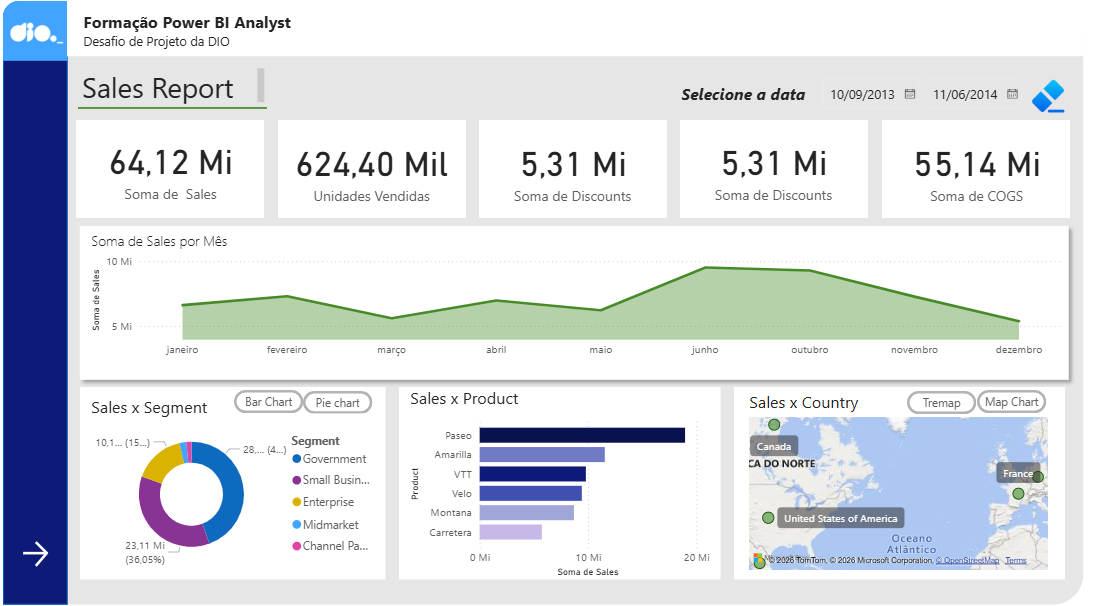

This screenshot's page, from the dashboard's own definition file:
{"tool":"powerbi","page":{"name":"Página 1","canvas":[1280,720],"ordinal":0},"visuals":[{"type":"shape","box":[14.7,16,1246.7,696.6],"z":0},{"type":"shape","box":[99.8,153,217.2,113.1],"z":0,"group":"g1"},{"type":"map","title":"Sales x Country","fields":{"Category":["financials.Country"],"Size":["Sum(financials. Sales)"]},"box":[871.3,466.5,355,212.4],"z":0,"group":"g4"},{"type":"clusteredBarChart","title":"Sales x Segment","fields":{"Y":["Sum(financials. Sales)"],"Category":["financials.Segment"]},"box":[110.4,472.3,340.6,202.2],"z":0,"group":"g3"},{"type":"shape","box":[14.7,16,74.6,696.6],"z":1000},{"type":"slicer","fields":{"Values":["financials.Date"]},"box":[947.6,95.7,250.1,57.2],"z":1000,"group":"g2"},{"type":"shape","box":[332.4,153,217.2,113.1],"z":1000,"group":"g1"},{"type":"donutChart","title":"Sales x Segment ","fields":{"Category":["financials.Segment"],"Y":["Sum(financials. Sales)"]},"box":[111.3,471.9,340.9,201.7],"z":1000,"group":"g3"},{"type":"actionButton","title":"Botão- Bar chart","box":[281.7,464.9,80,26.7],"z":1500,"group":"g3"},{"type":"actionButton","title":"Botão- Tremap","box":[1058.6,466.1,80,26.7],"z":1500,"group":"g4"},{"type":"shape","box":[14.7,16,74.6,69.3],"z":2000},{"type":"shape","box":[565,153,217.2,113.1],"z":2000,"group":"g1"},{"type":"actionButton","title":"Botão- Map","box":[1138.6,464.9,80,26.7],"z":2000,"group":"g4"},{"type":"actionButton","title":"Botão- Pie Chart","box":[361.2,466.2,80,26.2],"z":2000,"group":"g3"},{"type":"image","box":[18.6,16,70.6,73.3],"z":3000},{"type":"textbox","box":[783.9,105,171.6,38.6],"z":3000,"group":"g2"},{"type":"shape","box":[1030.2,153,217.2,113.1],"z":3000,"group":"g1"},{"type":"image","title":"Clean","box":[1185.5,96.8,72.7,57.7],"z":3500,"group":"g2"},{"type":"shape","box":[89.2,15.9,1173.3,63.7],"z":4000},{"type":"actionButton","box":[1200.5,110.3,42.7,30],"z":4000,"group":"g2"},{"type":"shape","box":[796.3,153,217.2,113.1],"z":4000,"group":"g1"},{"type":"textbox","box":[102.8,21.8,294.3,56.5],"z":5000},{"type":"card","fields":{"Values":["Sum(financials.Units Sold)"]},"box":[339.3,158.3,202.2,102.5],"z":5000,"group":"g1"},{"type":"group","id":"g1","title":"Cartões","box":[99.8,153,1147.6,113.1],"z":6000},{"type":"card","fields":{"Values":["Sum(financials.COGS)"]},"box":[1037.8,158.3,202.2,102.5],"z":6000,"group":"g1"},{"type":"shape","box":[101.9,119.4,218.1,41.4],"z":7000},{"type":"card","fields":{"Values":["Sum(financials. Sales)"]},"box":[107.8,157,202.2,102.5],"z":7000,"group":"g1"},{"type":"textbox","box":[101.9,89.2,219.7,50.9],"z":8000},{"type":"card","fields":{"Values":["Sum(financials.Discounts)"]},"box":[572.1,158.3,202.2,102.5],"z":8000,"group":"g1"},{"type":"card","fields":{"Values":["Sum(financials.Discounts)"]},"box":[803.2,158.5,201.8,102.9],"z":9000},{"type":"shape","box":[94.5,266.1,1158.9,195.6],"z":10000},{"type":"shape","box":[103.8,461.7,352.6,222.2],"z":11000},{"type":"shape","box":[472.3,461.7,371.2,222.2],"z":12000},{"type":"shape","box":[858.2,461.7,381.9,222.2],"z":13000},{"type":"areaChart","fields":{"Category":["financials.Date.Variation.Hierarquia de datas.Mês"],"Y":["Sum(financials. Sales)"]},"box":[111.4,281.8,1128.8,154.4],"z":14000},{"type":"clusteredBarChart","title":"Sales x Product","fields":{"Y":["Sum(financials. Sales)"],"Category":["financials.Product"]},"box":[480.3,461.7,355.3,223.5],"z":15000},{"type":"group","id":"g2","title":"Filtro por data","box":[783.9,95.7,474.3,58.8],"z":16000},{"type":"group","id":"g3","title":"Sales X Segment","box":[110.4,464.9,341.7,209.7],"z":17000},{"type":"group","id":"g4","title":"Sales X Country","box":[871.3,464.9,355,218.1],"z":18000},{"type":"actionButton","box":[32.3,634.6,43.8,39.2],"z":19000}]}

Visuals, with their boxes on the page's 1280x720 design canvas (x1, y1, x2, y2). These are canvas units, not pixel positions in the 1097x606 screenshot, which may show the page scaled, cropped or inside an application window:
shape: {"left": 15, "top": 16, "right": 1261, "bottom": 713}
shape: {"left": 100, "top": 153, "right": 317, "bottom": 266}
"Sales x Country" map: {"left": 871, "top": 466, "right": 1226, "bottom": 679}
"Sales x Segment" clusteredBarChart: {"left": 110, "top": 472, "right": 451, "bottom": 674}
shape: {"left": 15, "top": 16, "right": 89, "bottom": 713}
slicer - financials.Date: {"left": 948, "top": 96, "right": 1198, "bottom": 153}
shape: {"left": 332, "top": 153, "right": 550, "bottom": 266}
"Sales x Segment " donutChart: {"left": 111, "top": 472, "right": 452, "bottom": 674}
"Botão- Bar chart" actionButton: {"left": 282, "top": 465, "right": 362, "bottom": 492}
"Botão- Tremap" actionButton: {"left": 1059, "top": 466, "right": 1139, "bottom": 493}
shape: {"left": 15, "top": 16, "right": 89, "bottom": 85}
shape: {"left": 565, "top": 153, "right": 782, "bottom": 266}
"Botão- Map" actionButton: {"left": 1139, "top": 465, "right": 1219, "bottom": 492}
"Botão- Pie Chart" actionButton: {"left": 361, "top": 466, "right": 441, "bottom": 492}
image: {"left": 19, "top": 16, "right": 89, "bottom": 89}
textbox: {"left": 784, "top": 105, "right": 956, "bottom": 144}
shape: {"left": 1030, "top": 153, "right": 1247, "bottom": 266}
"Clean" image: {"left": 1186, "top": 97, "right": 1258, "bottom": 154}
shape: {"left": 89, "top": 16, "right": 1262, "bottom": 80}
actionButton: {"left": 1200, "top": 110, "right": 1243, "bottom": 140}
shape: {"left": 796, "top": 153, "right": 1014, "bottom": 266}
textbox: {"left": 103, "top": 22, "right": 397, "bottom": 78}
card - Sum(financials.Units Sold): {"left": 339, "top": 158, "right": 542, "bottom": 261}
"Cartões" group: {"left": 100, "top": 153, "right": 1247, "bottom": 266}
card - Sum(financials.COGS): {"left": 1038, "top": 158, "right": 1240, "bottom": 261}
shape: {"left": 102, "top": 119, "right": 320, "bottom": 161}
card - Sum(financials. Sales): {"left": 108, "top": 157, "right": 310, "bottom": 260}
textbox: {"left": 102, "top": 89, "right": 322, "bottom": 140}
card - Sum(financials.Discounts): {"left": 572, "top": 158, "right": 774, "bottom": 261}
card - Sum(financials.Discounts): {"left": 803, "top": 158, "right": 1005, "bottom": 261}
shape: {"left": 94, "top": 266, "right": 1253, "bottom": 462}
shape: {"left": 104, "top": 462, "right": 456, "bottom": 684}
shape: {"left": 472, "top": 462, "right": 844, "bottom": 684}
shape: {"left": 858, "top": 462, "right": 1240, "bottom": 684}
areaChart - financials.Date.Variation.Hierarquia de datas.Mês x Sum(financials. Sales): {"left": 111, "top": 282, "right": 1240, "bottom": 436}
"Sales x Product" clusteredBarChart: {"left": 480, "top": 462, "right": 836, "bottom": 685}
"Filtro por data" group: {"left": 784, "top": 96, "right": 1258, "bottom": 154}
"Sales X Segment" group: {"left": 110, "top": 465, "right": 452, "bottom": 675}
"Sales X Country" group: {"left": 871, "top": 465, "right": 1226, "bottom": 683}
actionButton: {"left": 32, "top": 635, "right": 76, "bottom": 674}
